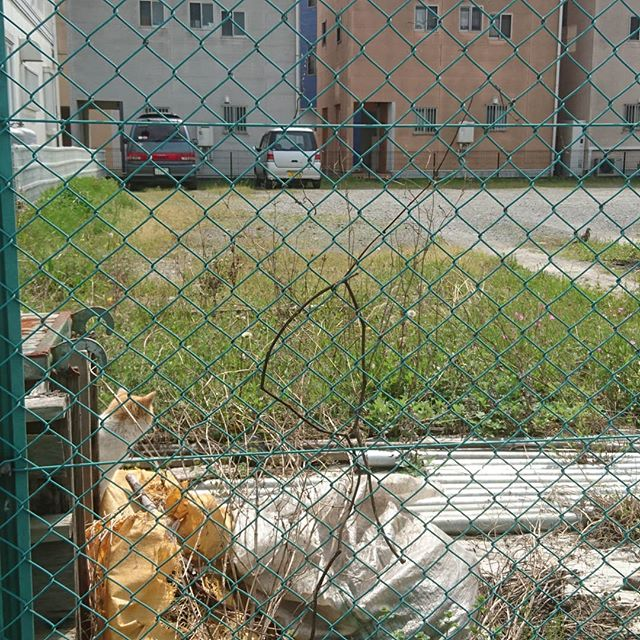building: (57, 1, 304, 178), (321, 1, 554, 183), (572, 1, 640, 172)
car: (116, 101, 203, 192), (255, 115, 327, 195)
grass: (90, 207, 639, 431)
trash: (34, 447, 597, 640)
